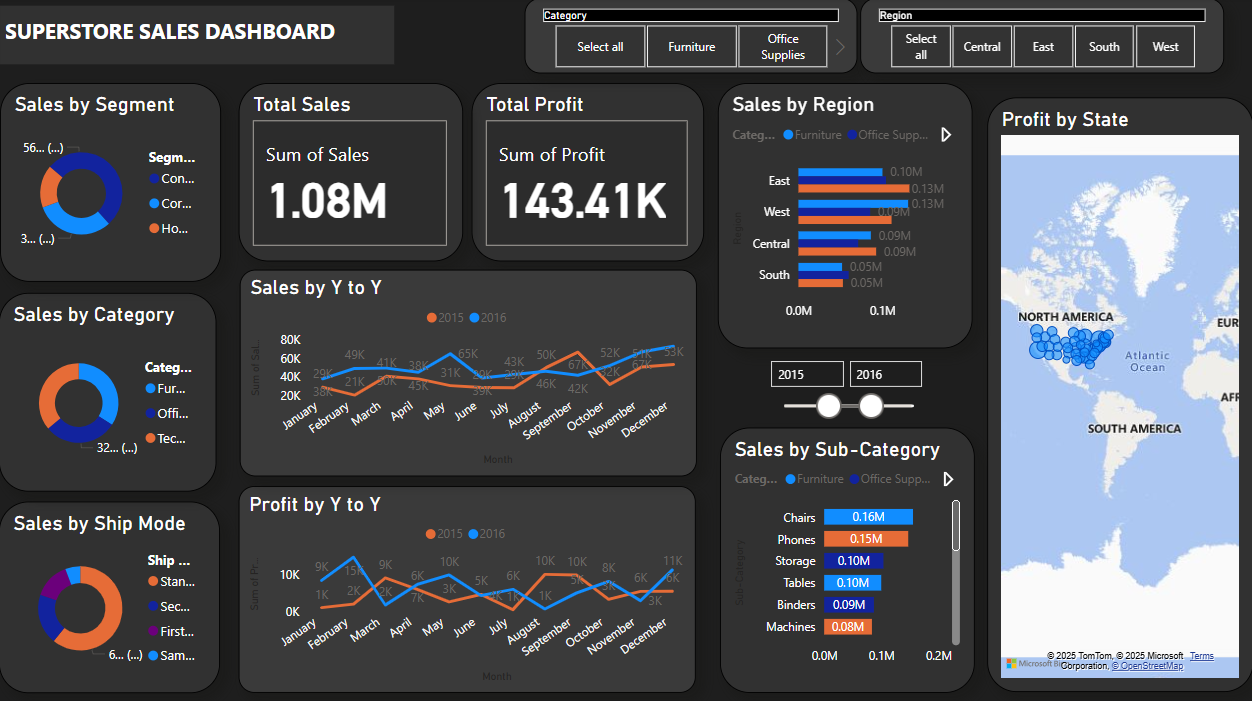

This screenshot's page, from the dashboard's own definition file:
{"tool":"powerbi","page":{"name":"Page 2","canvas":[1280,720],"ordinal":0},"visuals":[{"type":"cardVisual","title":"Total Profit","fields":{"Data":["Sum(Sample - Superstore.Profit)"]},"box":[481.9,87.1,236.9,182.2],"z":0},{"type":"cardVisual","title":"Total Sales","fields":{"Data":["Sum(Sample - Superstore.Sales)"]},"box":[245,87.1,228.8,182.2],"z":1000},{"type":"barChart","title":"Sales by Sub-Category","fields":{"Category":["Sample - Superstore.Sub-Category"],"Y":["Sum(Sample - Superstore.Sales)"],"Series":["Sample - Superstore.Category"]},"box":[735.7,438.2,260.2,270.4],"z":2000},{"type":"lineChart","title":"Profit by  Y to Y","fields":{"Y":["Sum(Sample - Superstore.Profit)"],"Series":["Sample - Superstore.Order Date.Variation.Date Hierarchy.Year"],"Category":["Sample - Superstore.Order Date.Variation.Date Hierarchy.Month"]},"box":[245,498.1,466.8,210.6],"z":3000},{"type":"map","title":"Profit by State","fields":{"Category":["Sample - Superstore.State"],"Size":["Sum(Sample - Superstore.Profit)"]},"box":[1008.3,101.4,271.5,607.2],"z":4000},{"type":"donutChart","title":"Sales by Ship Mode","fields":{"Category":["Sample - Superstore.Ship Mode"],"Y":["Sum(Sample - Superstore.Sales)"]},"box":[0,513.3,225.8,195.4],"z":5000},{"type":"slicer","fields":{"Values":["Sample - Superstore.Category"]},"box":[536.6,0,339.2,76.9],"z":6000},{"type":"donutChart","title":"Sales by Category","fields":{"Y":["Sum(Sample - Superstore.Sales)"],"Series":["Sample - Superstore.Category"]},"box":[0,300.7,221.7,202.5],"z":7000},{"type":"donutChart","title":"Sales by Segment","fields":{"Category":["Sample - Superstore.Segment"],"Y":["Sum(Sample - Superstore.Sales)"]},"box":[1,87.1,225.8,202.5],"z":8000},{"type":"slicer","fields":{"Values":["Sample - Superstore.Region"]},"box":[878.8,0,371.6,76.9],"z":9000},{"type":"lineChart","title":" Sales by  Y to Y","fields":{"Y":["Sum(Sample - Superstore.Sales)"],"Series":["Sample - Superstore.Order Date.Variation.Date Hierarchy.Year"],"Category":["Sample - Superstore.Order Date.Variation.Date Hierarchy.Month"]},"box":[246,277.4,466.8,210.6],"z":10000},{"type":"clusteredBarChart","title":"Sales by Region","fields":{"Y":["Sum(Sample - Superstore.Sales)"],"Category":["Sample - Superstore.Region"],"Series":["Sample - Superstore.Category"]},"box":[733.4,86.7,260.2,270.4],"z":11000},{"type":"slicer","fields":{"Values":["Sample - Superstore.Order Date.Variation.Date Hierarchy.Year"]},"box":[775.1,360.5,179.1,77.7],"z":12000},{"type":"textbox","box":[1.1,38.3,358.3,38.3],"z":13000}]}

Visuals, with their boxes in screenshot pixels (x1, y1, x2, y2), scaled from the page's 1280x720 canvas onto the 1252x701 screenshot:
"Total Profit" cardVisual: [471,85,703,262]
"Total Sales" cardVisual: [240,85,463,262]
"Sales by Sub-Category" barChart: [720,427,974,690]
"Profit by  Y to Y" lineChart: [240,485,696,690]
"Profit by State" map: [986,99,1251,690]
"Sales by Ship Mode" donutChart: [0,500,221,690]
slicer - Sample - Superstore.Category: [525,0,857,75]
"Sales by Category" donutChart: [0,293,217,490]
"Sales by Segment" donutChart: [1,85,222,282]
slicer - Sample - Superstore.Region: [860,0,1223,75]
" Sales by  Y to Y" lineChart: [241,270,697,475]
"Sales by Region" clusteredBarChart: [717,84,972,348]
slicer - Sample - Superstore.Order Date.Variation.Date Hierarchy.Year: [758,351,933,427]
textbox: [1,37,352,75]
